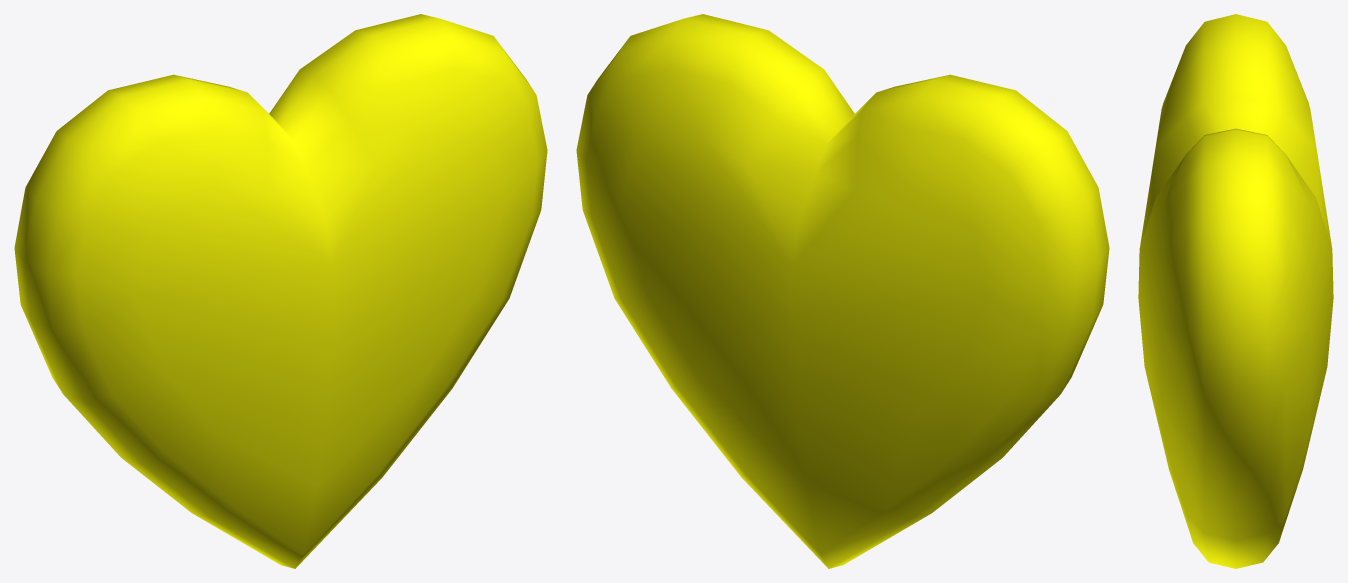
File: Heart.glb
The picture shows the model from 3 angles, left to right: view 1: azimuth 30°, elevation 25°; view 2: azimuth 150°, elevation 25°; view 3: azimuth 270°, elevation 25°; orthographic projection. The views are drawn at different scales.
Parts seen in each view (by area): view 1: Heart; view 2: Heart; view 3: Heart.
Part boxes in pixels (<box>): Heart: <box>14,14,547,568</box>; Heart: <box>576,14,1109,568</box>; Heart: <box>1138,14,1333,568</box>.
Size of the model in its own units: 0.4156 by 0.393 by 0.1445.
1 material, 1 textured.
